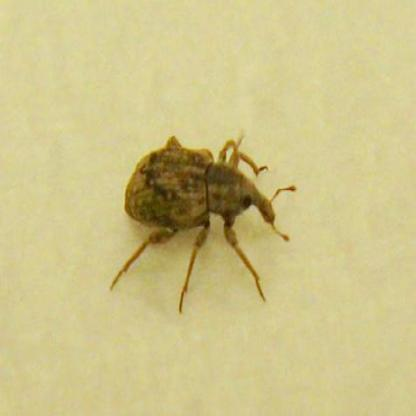rice-bug: (123, 136, 276, 278)
